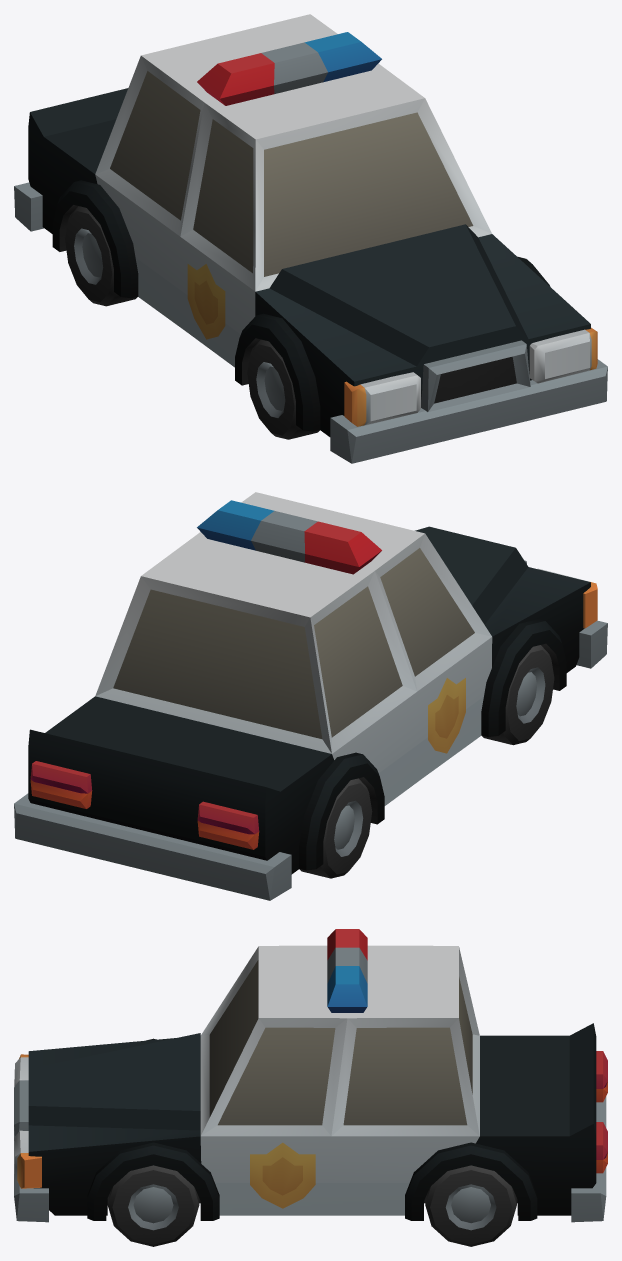
The model's file is city-car-police.glb.
3 renders of one model, top to bottom at view 1: azimuth 30°, elevation 25°; view 2: azimuth 150°, elevation 25°; view 3: azimuth 270°, elevation 25°, orthographic. The views are drawn at different scales.
Parts seen in each view (by area): view 1: car_police, car_police_wheel_rear_right, car_police_wheel_front_right; view 2: car_police, car_police_wheel_front_right, car_police_wheel_rear_right; view 3: car_police, car_police_wheel_front_left, car_police_wheel_rear_left.
Boxes of the visible parts, bbox=[...] form: car_police: bbox=[14, 14, 607, 463]; car_police_wheel_rear_right: bbox=[65, 206, 137, 306]; car_police_wheel_front_right: bbox=[247, 339, 319, 439]; car_police: bbox=[14, 492, 607, 900]; car_police_wheel_front_right: bbox=[482, 645, 554, 745]; car_police_wheel_rear_right: bbox=[299, 778, 372, 878]; car_police: bbox=[14, 929, 607, 1222]; car_police_wheel_front_left: bbox=[107, 1165, 199, 1246]; car_police_wheel_rear_left: bbox=[425, 1165, 516, 1246].
Size of the model in its own units: 0.419 by 0.4126 by 0.9381.
